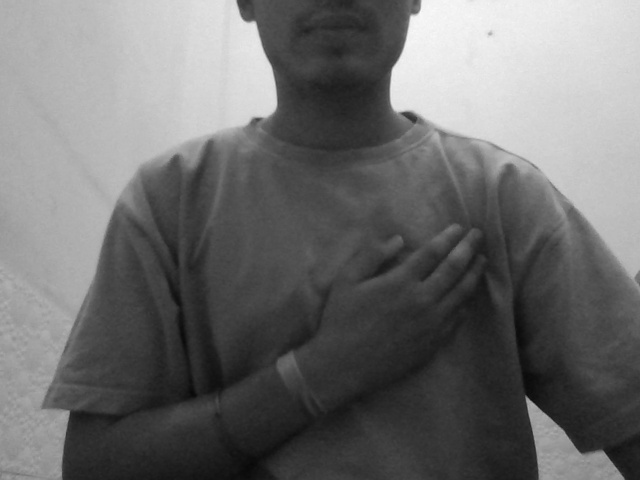Sorry: (302, 209, 531, 399)
